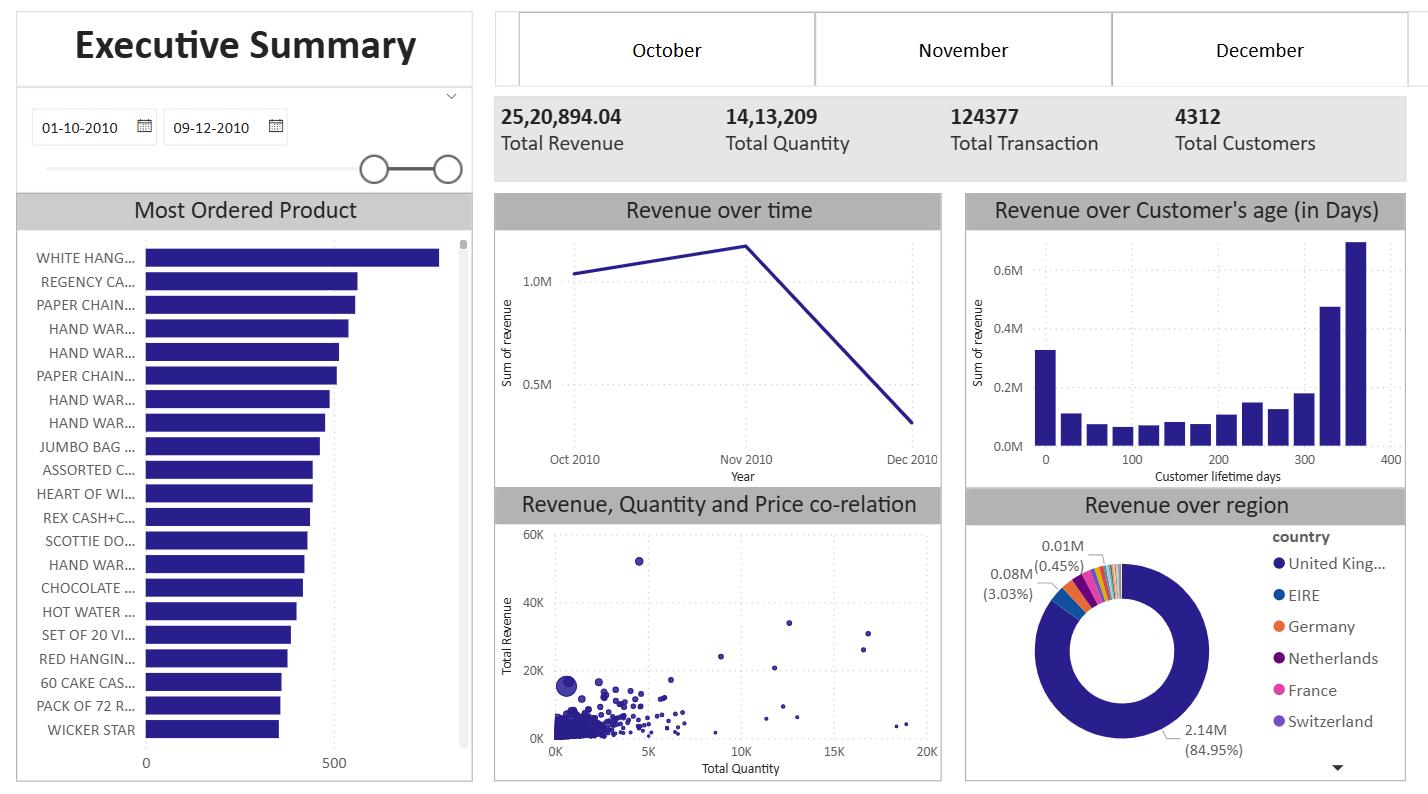

The page's visual inventory and layout, read from the dashboard file:
{"tool":"powerbi","page":{"name":"Executive Summary","canvas":[1280,720],"ordinal":0},"visuals":[{"type":"textbox","box":[23.5,18.5,404.8,67.2],"z":0},{"type":"slicer","fields":{"Values":["date_dim.date"]},"box":[23.5,85.7,404.8,94.1],"z":1000},{"type":"clusteredBarChart","title":"Most Ordered Product","fields":{"Y":["CountNonNull(fact_sales.invoice)"],"Category":["fact_sales.description"]},"box":[23.5,179.7,404.8,522.4],"z":2000},{"type":"advancedSlicerVisual","fields":{"Values":["date_dim.month_name"]},"box":[448.5,18.5,831.5,67.2],"z":3000},{"type":"multiRowCard","fields":{"Values":["Sum(fact_sales.revenue)","Sum(fact_sales.quantity)","fact_sales.invoice","dim_customer.customer_id"]},"box":[447.8,93.6,809.3,76.3],"z":4000},{"type":"lineChart","title":"Revenue over time","fields":{"Y":["Sum(fact_sales.revenue)"],"Category":["date_dim.date.Variation.Date Hierarchy.Year","date_dim.date.Variation.Date Hierarchy.Quarter","date_dim.date.Variation.Date Hierarchy.Month","date_dim.date.Variation.Date Hierarchy.Day"]},"box":[447.8,180,397.4,262.1],"z":5000},{"type":"scatterChart","title":"Revenue, Quantity and Price co-relation","fields":{"X":["Sum(fact_sales.quantity)"],"Size":["Avg(fact_sales.price)"],"Y":["Sum(fact_sales.revenue)"],"Category":["dim_product.stockcode"]},"box":[447.8,440.6,397.4,260.6],"z":6000},{"type":"donutChart","title":"Revenue over region","fields":{"Y":["Sum(fact_sales.revenue)"],"Category":["fact_sales.country"]},"box":[865.1,441.8,391.4,260.4],"z":7000},{"type":"clusteredColumnChart","title":"Revenue over Customer''s age (in Days)","fields":{"Category":["dim_customer.Customer lifetime days"],"Y":["Sum(fact_sales.revenue)"]},"box":[865.1,179.7,391.4,262],"z":8000}]}

Visuals, with their boxes in screenshot pixels (x1, y1, x2, y2), scaled from the page's 1280x720 canvas onto the 1428x794 screenshot:
textbox: detection(26, 20, 478, 95)
slicer - date_dim.date: detection(26, 95, 478, 198)
"Most Ordered Product" clusteredBarChart: detection(26, 198, 478, 774)
advancedSlicerVisual - date_dim.month_name: detection(500, 20, 1427, 95)
multiRowCard - Sum(fact_sales.revenue) x Sum(fact_sales.quantity): detection(500, 103, 1402, 187)
"Revenue over time" lineChart: detection(500, 198, 943, 488)
"Revenue, Quantity and Price co-relation" scatterChart: detection(500, 486, 943, 773)
"Revenue over region" donutChart: detection(965, 487, 1402, 774)
"Revenue over Customer''s age (in Days)" clusteredColumnChart: detection(965, 198, 1402, 487)
